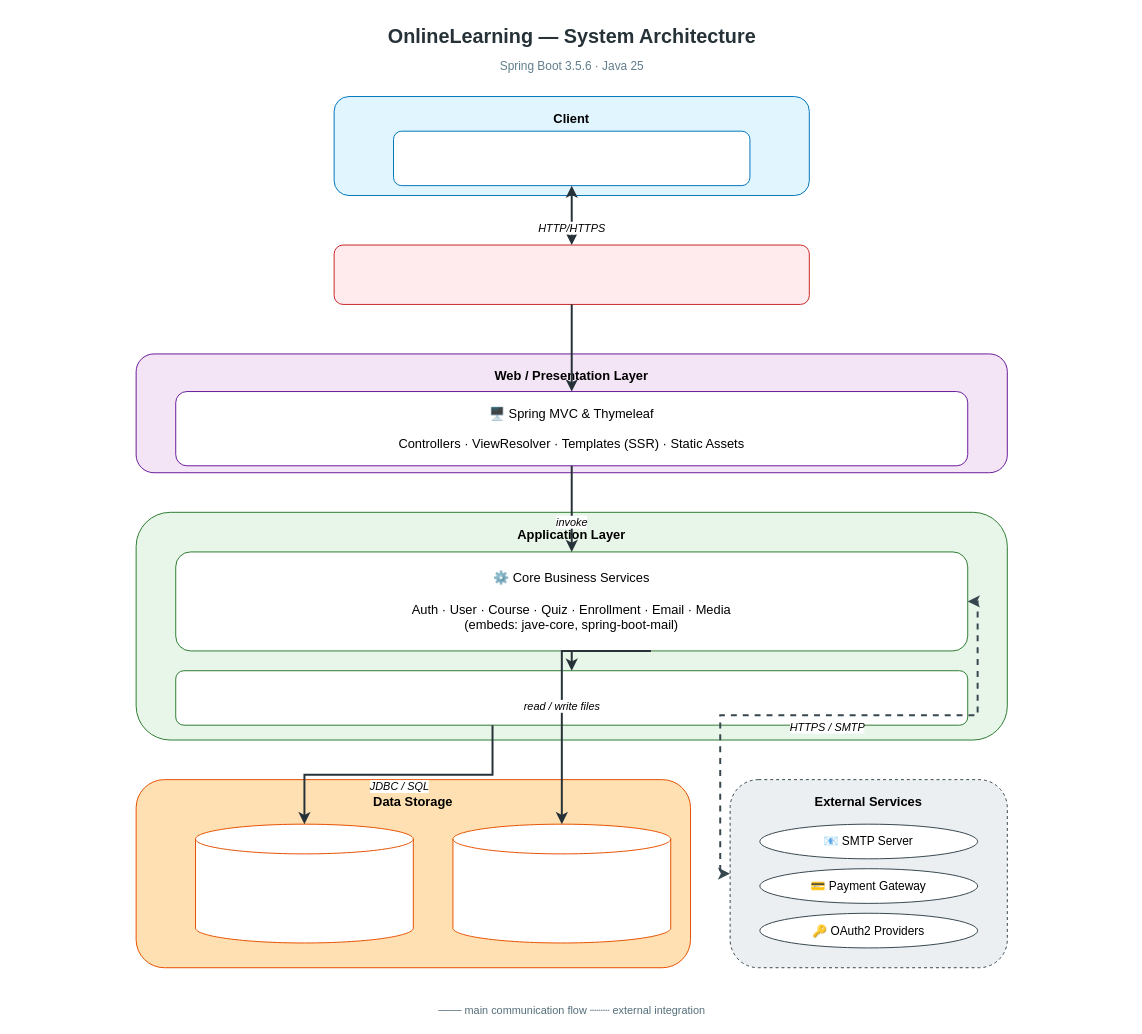
This 1142x1034 diagram has some shape labels left out. Here are the shapes that lost their labels. From the top down, the centre of each, then its label:
At pixel 571 158: "🌐 Web Browser".
At pixel 571 274: "🛡️ Spring Security — Auth & Authz Gateway".
At pixel 571 697: "🗂️ Data Access — Spring Data JPA / Hibernate".
At pixel 304 883: "💾 MS SQL Server".
At pixel 561 883: "📂 File System (./uploads)".
